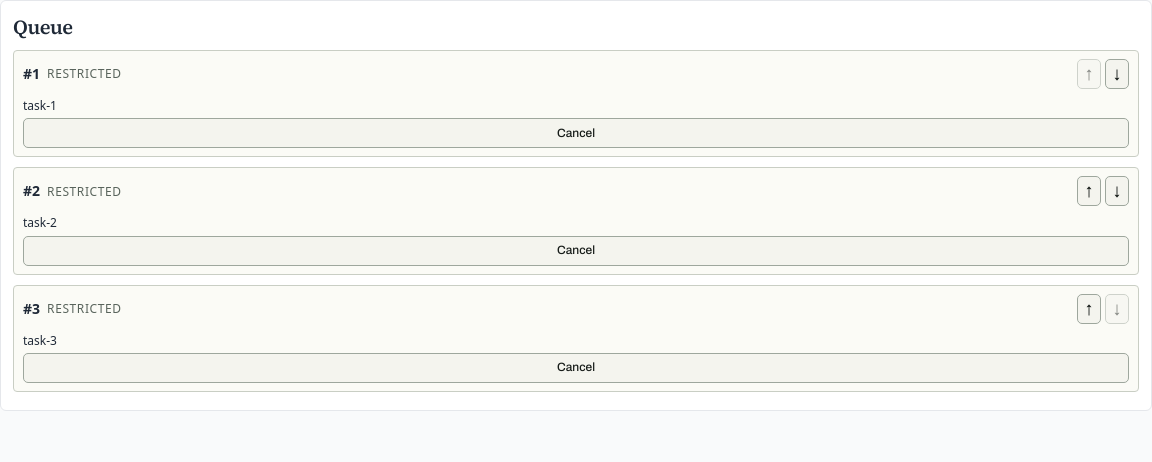
Scenario: QueuePane drag-and-drop reorder (decision 0031) › shows an error banner when PATCH 404s and refetches the queue
This screenshot has width=1152, height=462.
Expected: the number of list items is 3, x1=13 y1=50 x2=1139 y2=157; x1=13 y1=167 x2=1139 y2=275; x1=13 y1=285 x2=1139 y2=392
Click the 2nd button "↑".
click(1089, 191)  # box x1=1077 y1=176 x2=1101 y2=206
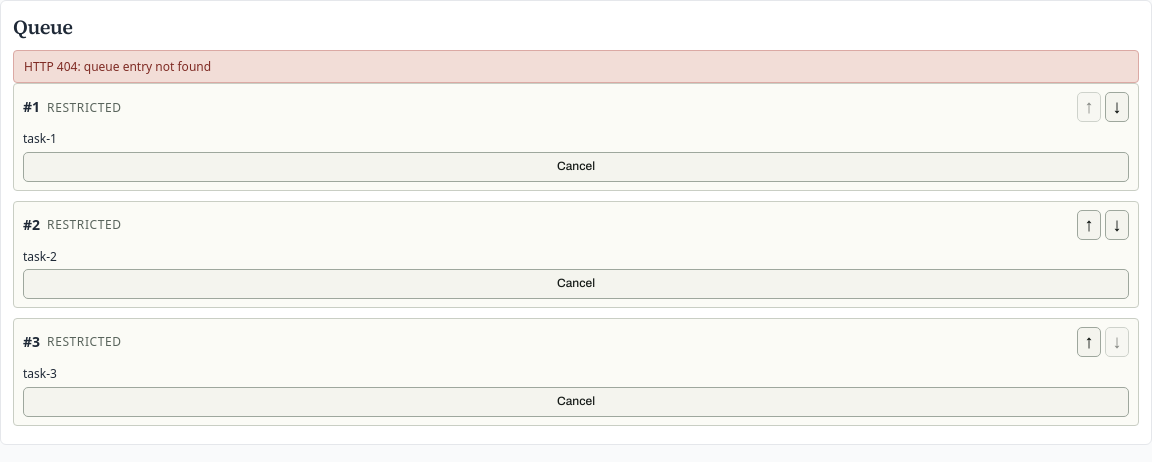
Result: the text "HTTP 404: queue entry not found" is shown at x1=13 y1=50 x2=1139 y2=83
Result: the text with class "error-banner" shows "HTTP 404" at x1=24 y1=58 x2=211 y2=75
